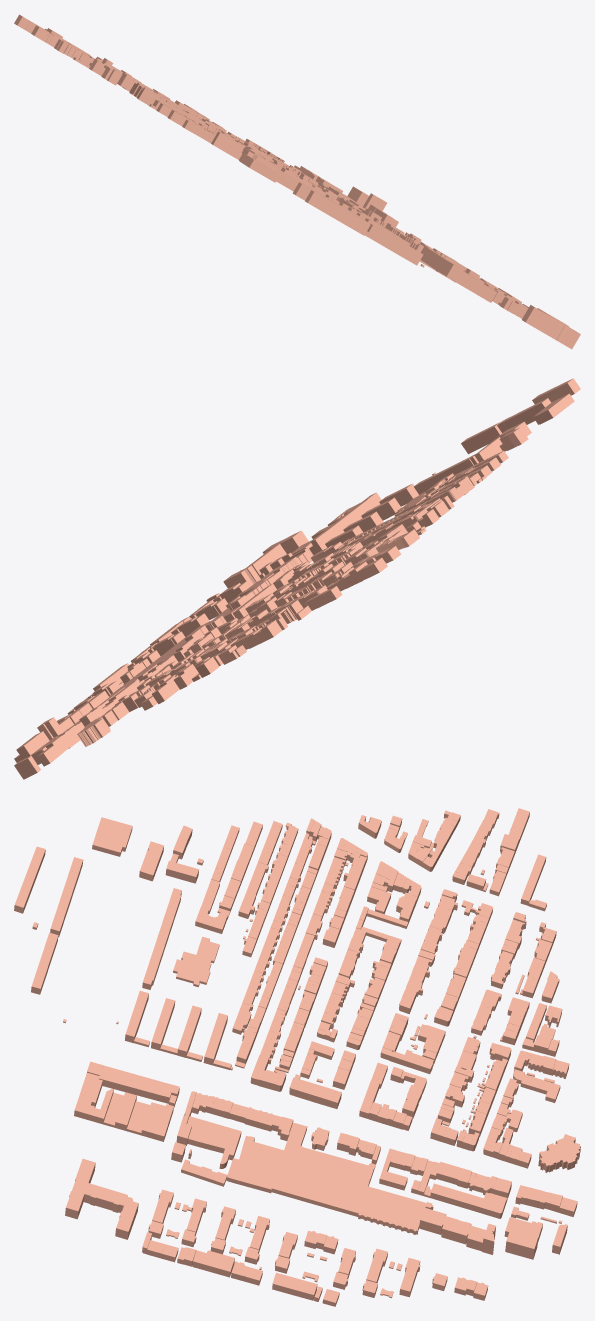
3 views of the same model, one above another, from view 1: azimuth 30°, elevation 25°; view 2: azimuth 150°, elevation 25°; view 3: azimuth 270°, elevation 25° (orthographic). The views are drawn at different scales.
Bounding box in the file's own units: 512 × 390 × 637.
